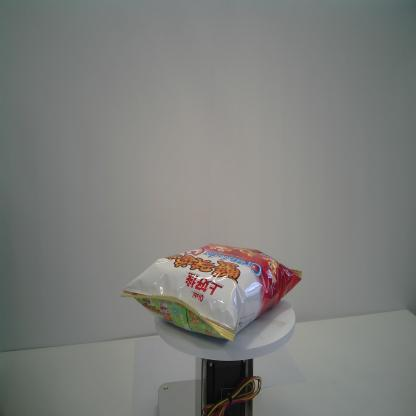Puffed Food: (119, 242, 304, 342)
